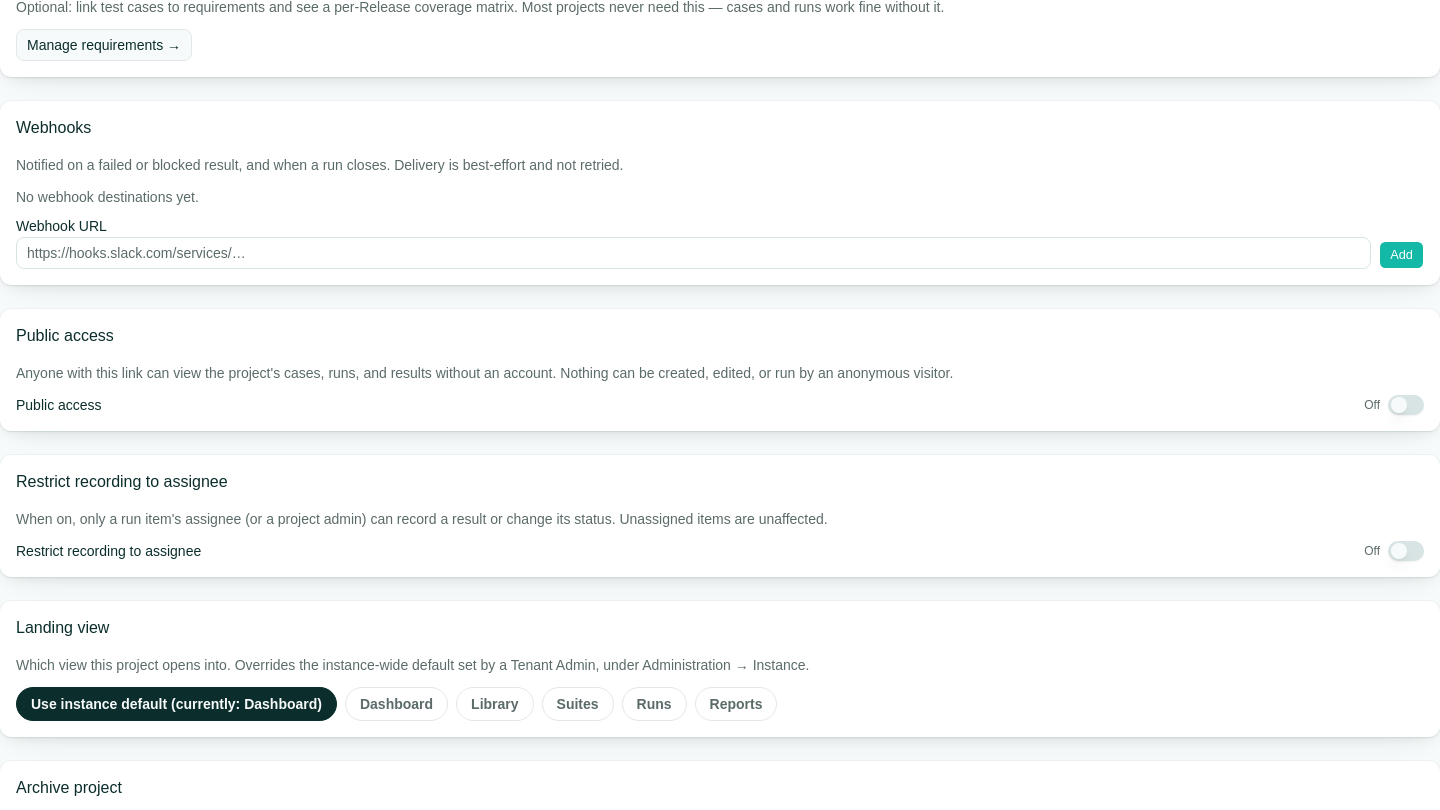
ProjectSettingsPage › renders the public access toggle off by default and a copyable link once enabled
(page scrolled)
Expected: the text "/projects/QA" is not shown
Step 1. Click the switch named "public access" → (1406, 405), box 1388,395 -> 1424,415
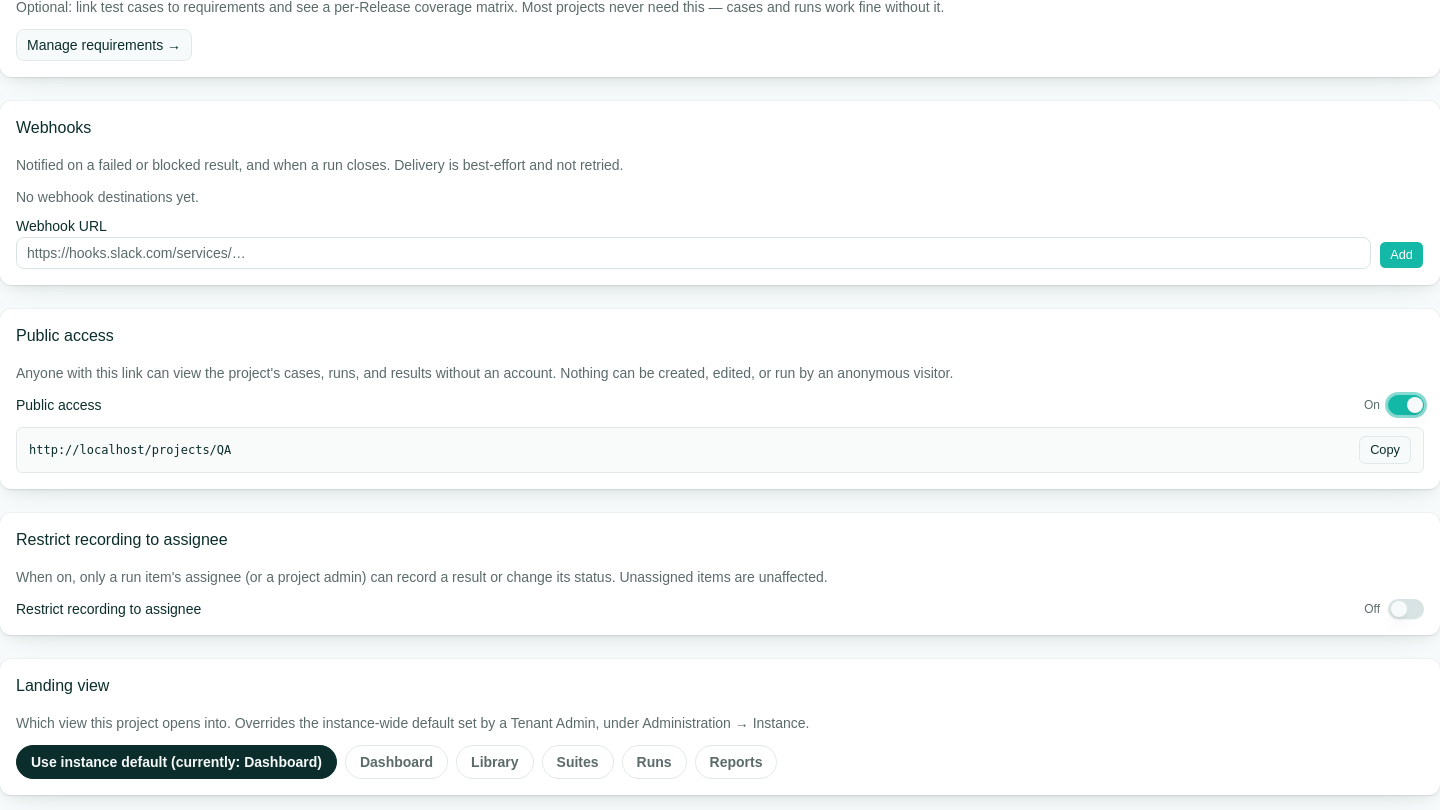
Result: the text "http://localhost/projects/QA" is shown at 29,443 -> 231,457
